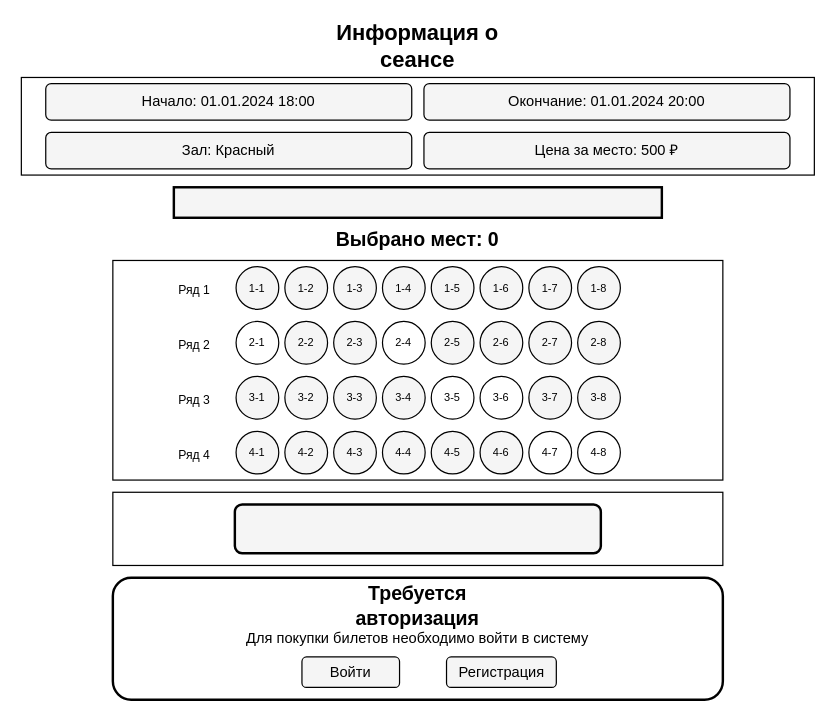
This 836x722 diagram has some shape labels left out. Here are the shapes that lost their labels. From the top down, the centre of each, then its label:
[417,201]: ЭКРАН
[417,528]: Купить выбранные билеты
